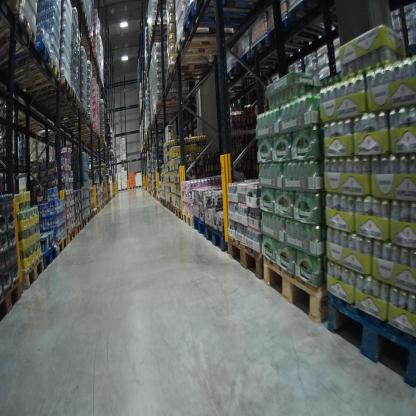pallet: (323, 288, 414, 391), (257, 250, 331, 330), (267, 12, 335, 54), (227, 223, 274, 280), (181, 1, 265, 32), (3, 37, 53, 89), (1, 14, 39, 73), (287, 1, 349, 36), (16, 55, 61, 97), (175, 29, 237, 59), (233, 48, 301, 73), (242, 31, 310, 56), (163, 52, 215, 84), (32, 72, 71, 107), (225, 63, 278, 87), (1, 276, 24, 331), (42, 87, 78, 119), (39, 100, 83, 126), (18, 253, 44, 294), (205, 215, 223, 253), (1, 2, 22, 30), (37, 244, 58, 271), (64, 106, 88, 128), (70, 8, 91, 30), (193, 206, 206, 237), (19, 111, 39, 129), (72, 119, 95, 134), (56, 232, 69, 257), (76, 23, 90, 42), (86, 52, 101, 69), (183, 205, 195, 226), (76, 36, 94, 50), (175, 201, 184, 222), (67, 225, 76, 245), (75, 220, 83, 236), (170, 201, 176, 215), (166, 200, 172, 212), (128, 183, 136, 191), (82, 217, 87, 229), (86, 214, 91, 226), (163, 196, 167, 210), (36, 156, 43, 164), (92, 208, 98, 217), (121, 186, 129, 192), (136, 184, 142, 190), (116, 187, 122, 193), (92, 211, 94, 223)
